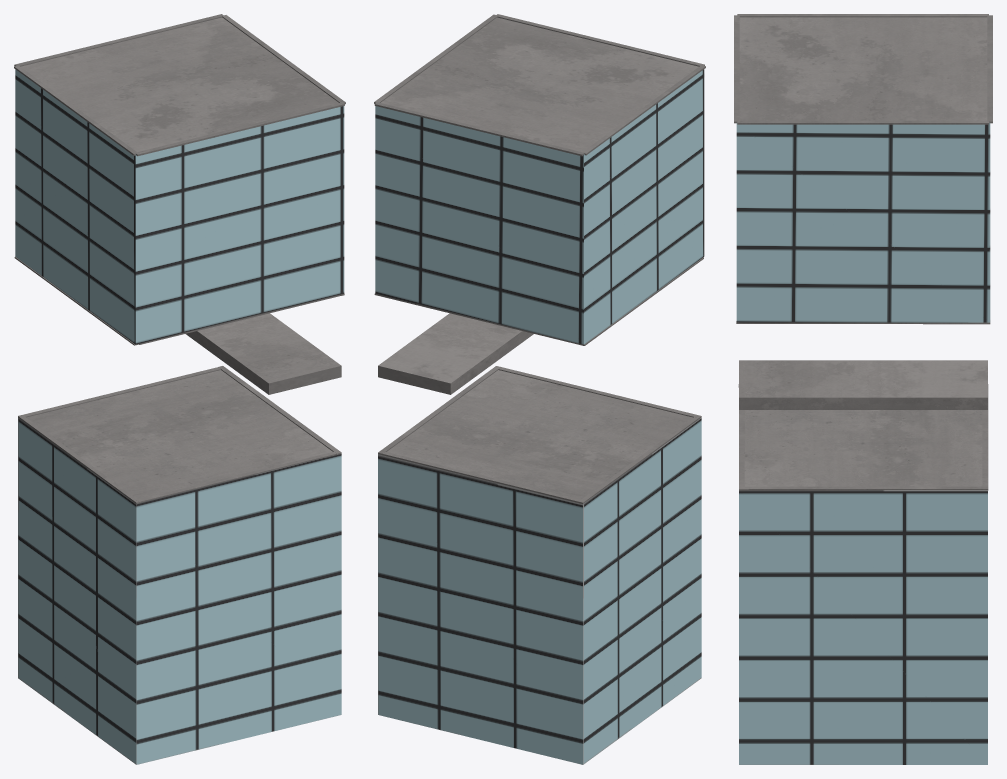
File: ConstructionBuildfinal1.fbx
The picture shows the model from 3 angles, left to right: view 1: azimuth 30°, elevation 25°; view 2: azimuth 150°, elevation 25°; view 3: azimuth 270°, elevation 25°; orthographic projection. The views are drawn at different scales.
Visible parts, largest first — view 1: Construction_Building; view 2: Construction_Building; view 3: Construction_Building.
Part boxes in pixels (x1=…): Construction_Building: x1=14, y1=14, x2=345, y2=764; Construction_Building: x1=374, y1=14, x2=705, y2=764; Construction_Building: x1=734, y1=14, x2=992, y2=764.
Size of the model in its own units: 203 by 561 by 204.
1 material, 1 textured.
